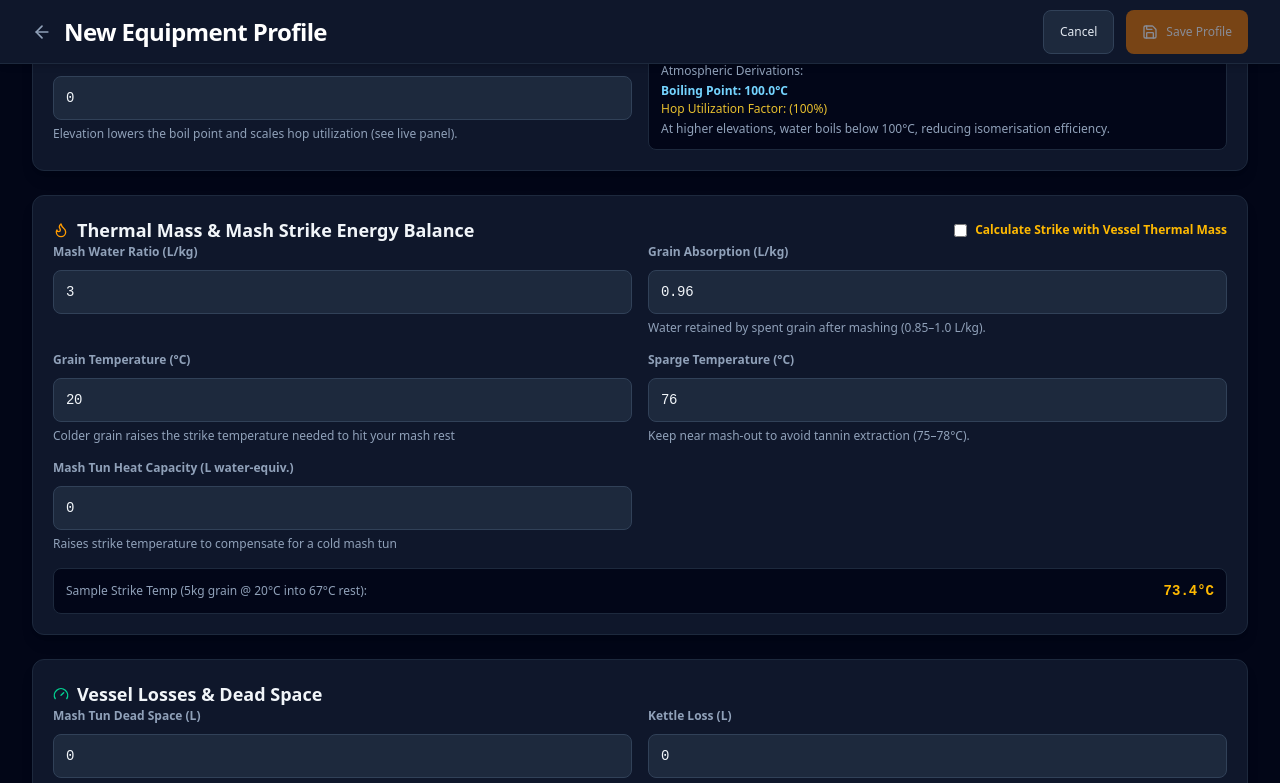
Test: EquipmentForm (Physics & Loss Controls — AC-5..AC-9) › AC-8: enzyme safety warning banner appears when strike temperature exceeds 78.0°C
(page scrolled)
Replace the text in the number field with test id "equipment-field-grainTemperatureC" with "-10" at (342, 400), box [53,378,632,422]
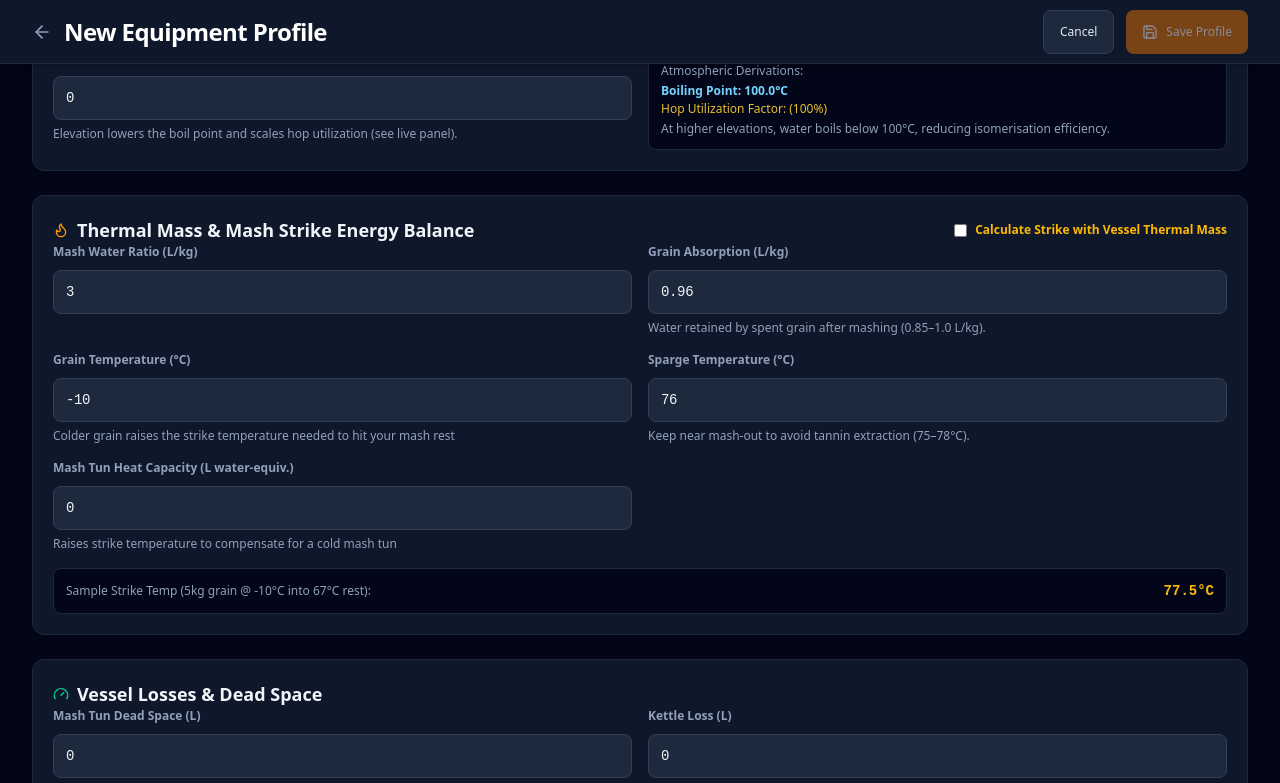
Click the checkbox with test id "equipment-field-calcStrikeWithThermalMass" at (961, 230), box [954,224,967,236]
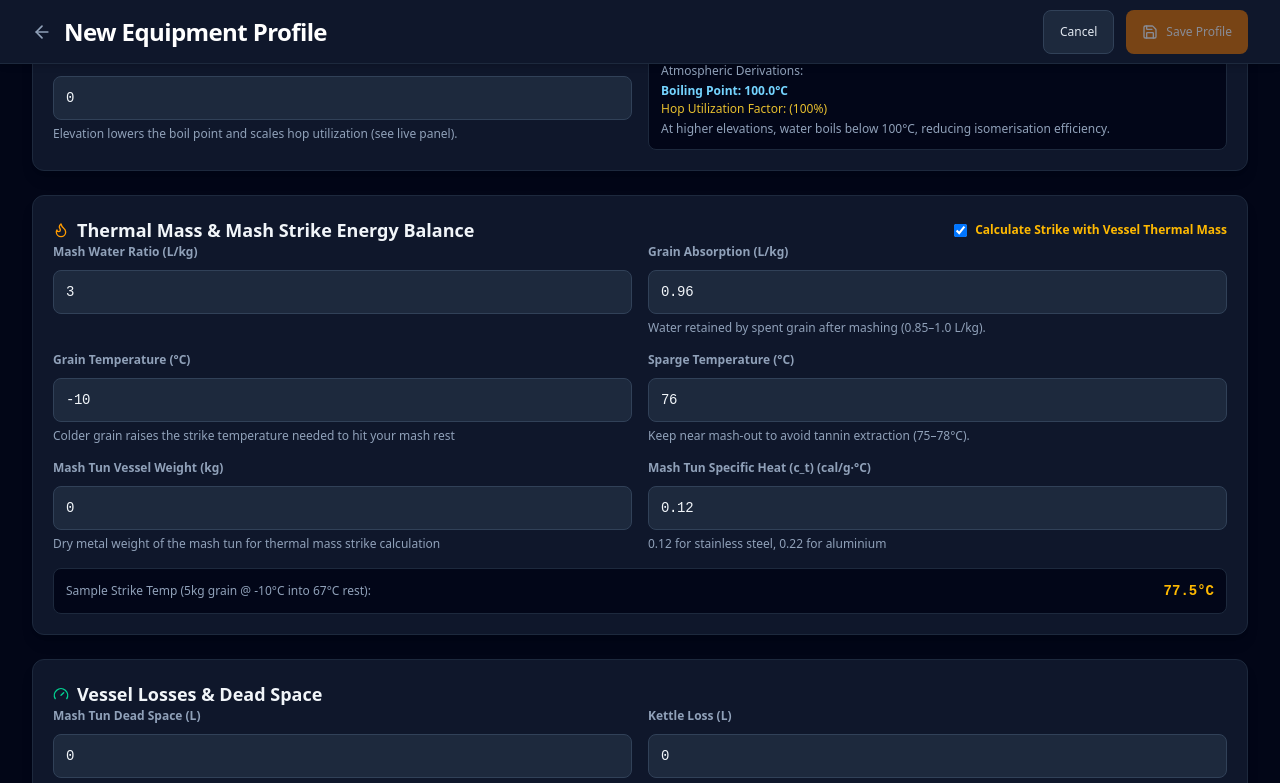
Replace the text in the number field with test id "equipment-field-mashTunWeightKg" with "50" at (342, 508), box [53,486,632,530]
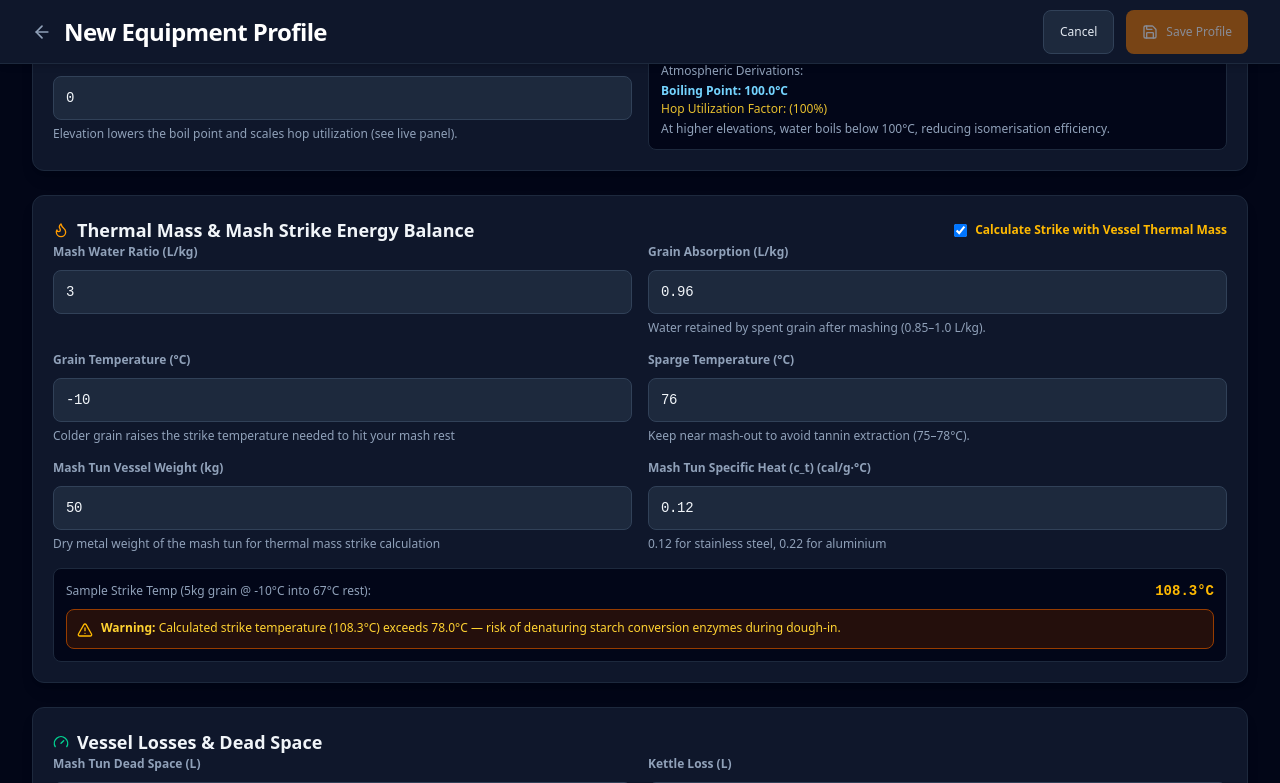
Expected: the element with test id "equipment-strike-enzyme-warning" is shown, [66,609,1214,649]
Expected: the text "exceeds 78.0°C" is shown, [364,619,841,636]
